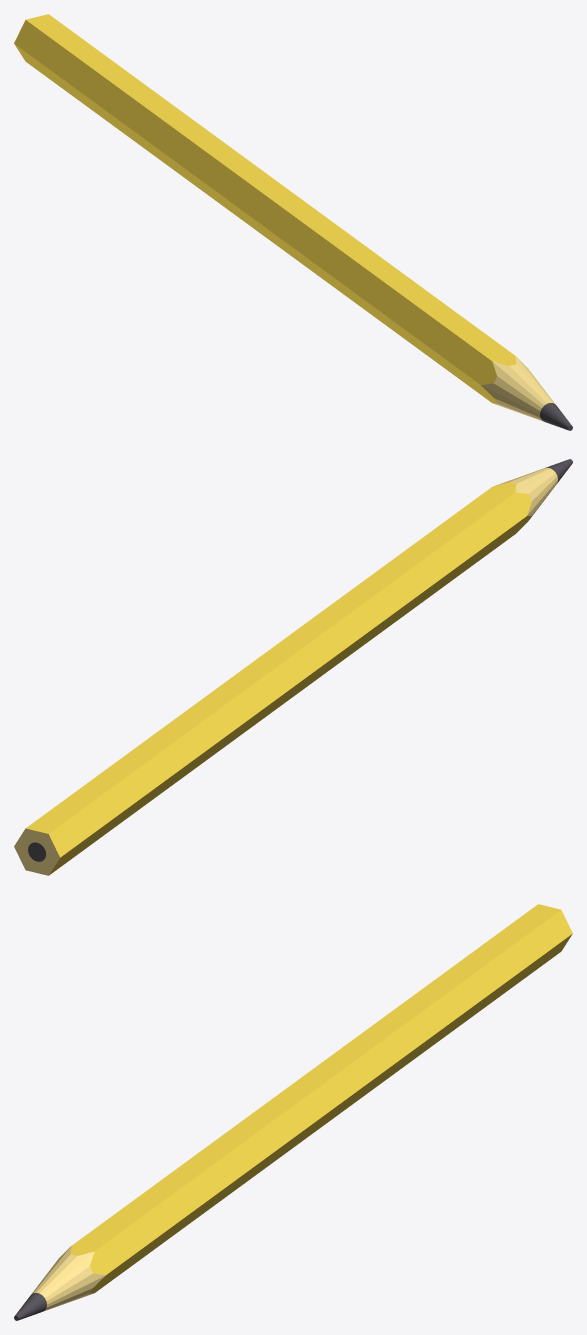
File: Pencil.fbx
The picture shows the model from 3 angles, top to bottom: view 1: azimuth 30°, elevation 25°; view 2: azimuth 150°, elevation 25°; view 3: azimuth 330°, elevation 25°; orthographic projection.
Parts seen in each view (by area): view 1: Cylinder; view 2: Cylinder; view 3: Cylinder.
Boxes of the visible parts, x1,y1,x2,y2 form: Cylinder: (14, 14, 572, 430); Cylinder: (14, 459, 572, 875); Cylinder: (14, 904, 572, 1320).
Bounding box in the file's own units: 1 × 0.866 × 20.
